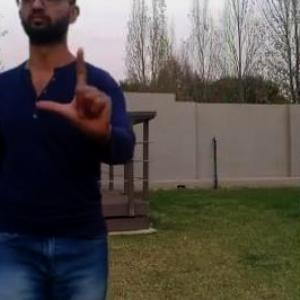land_hand: (30, 37, 118, 141)
